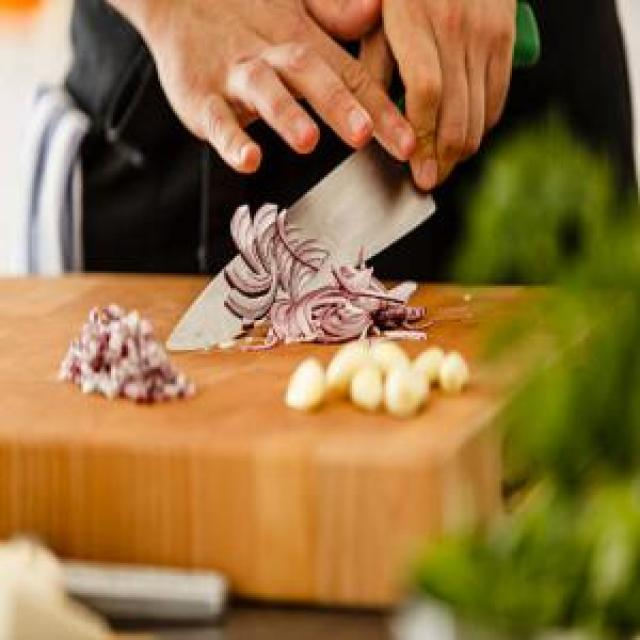knife: (164, 0, 543, 350)
